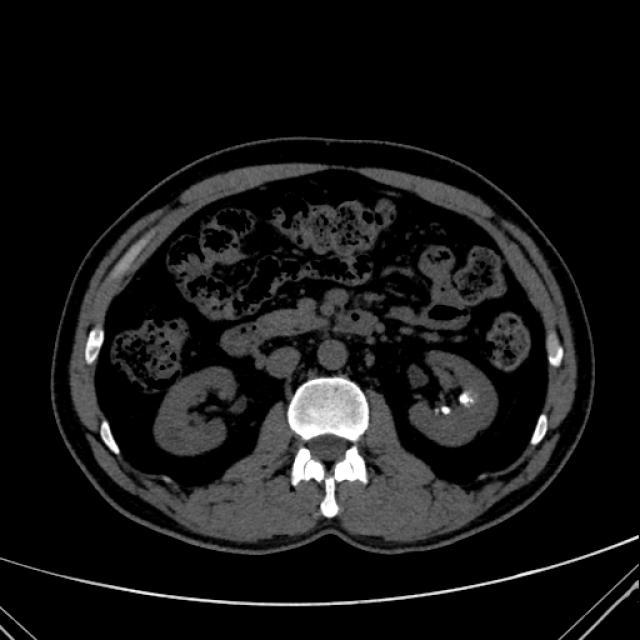kidneystone: (459, 392, 472, 407), (441, 406, 451, 414)
